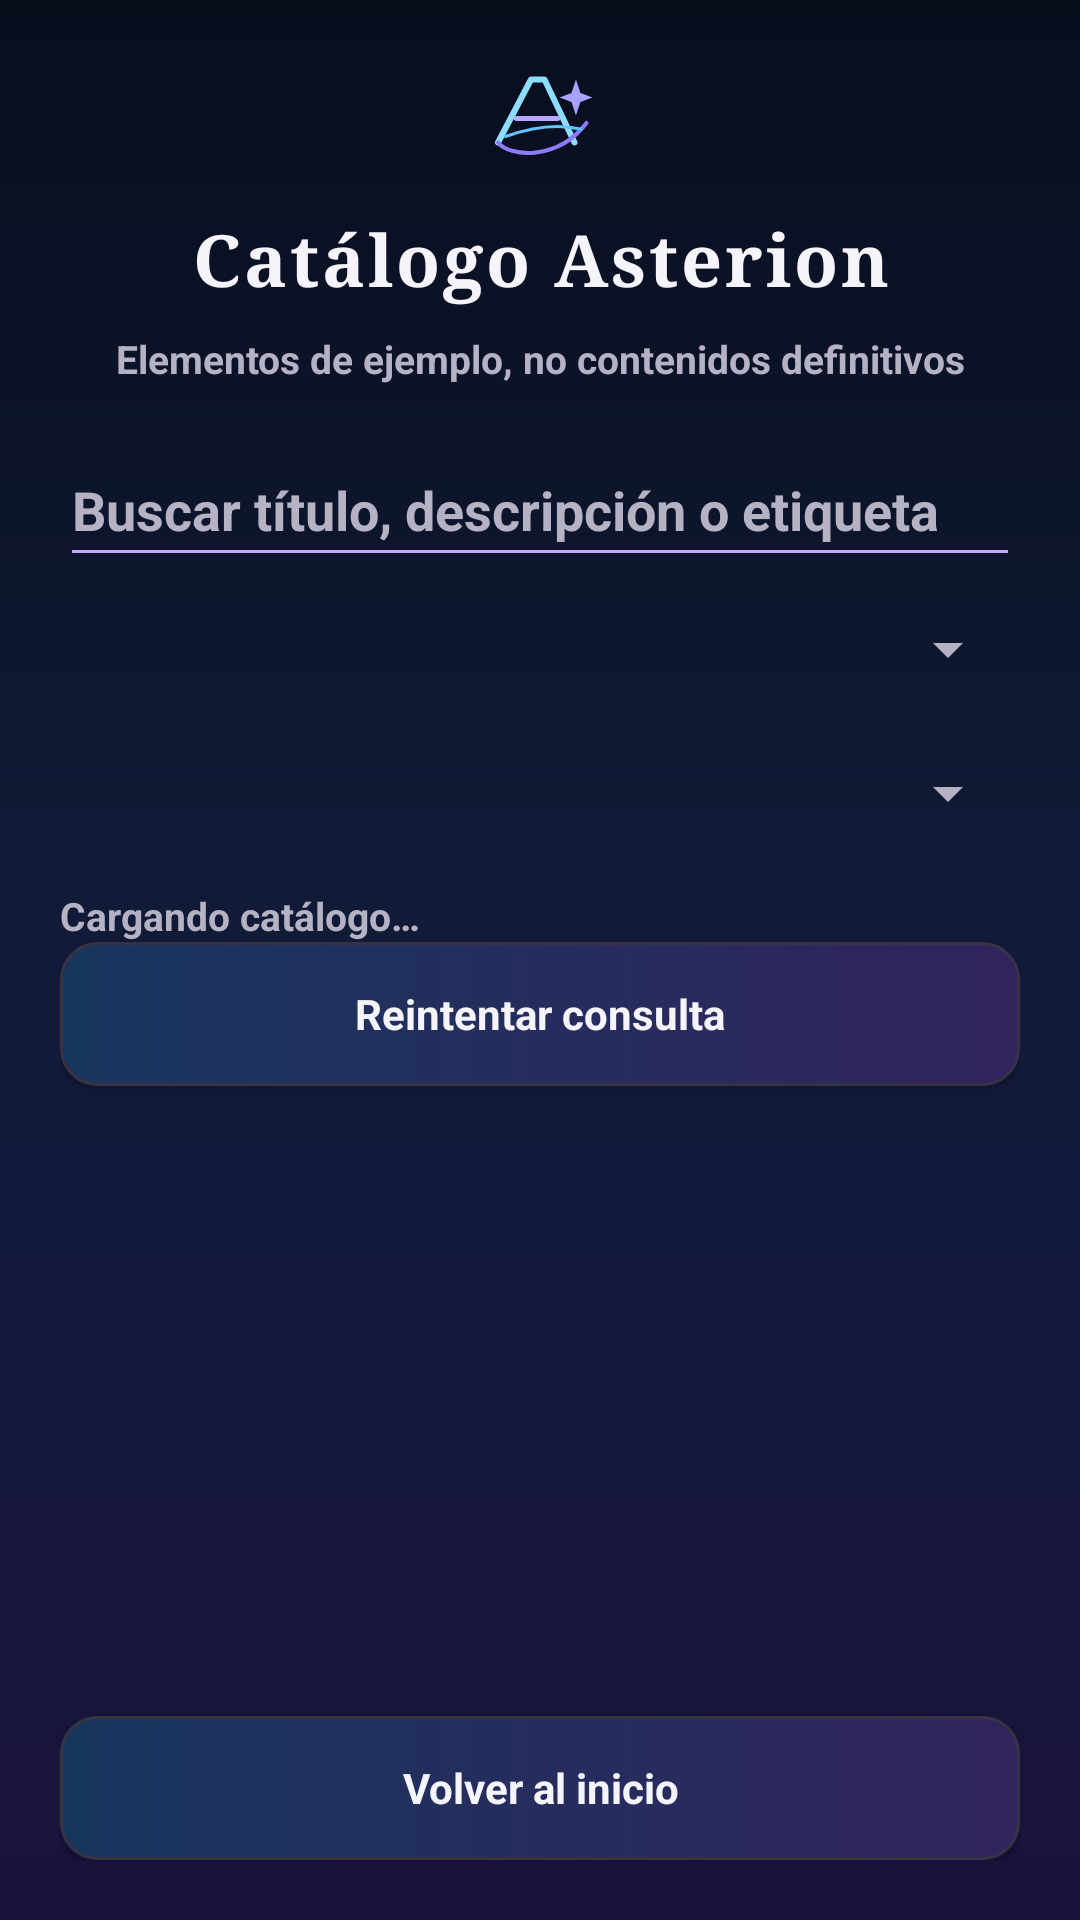

Icon click points for this 1080 x 1920 phone screenshot, format [x,y]:
asterion crest: [544,115]
